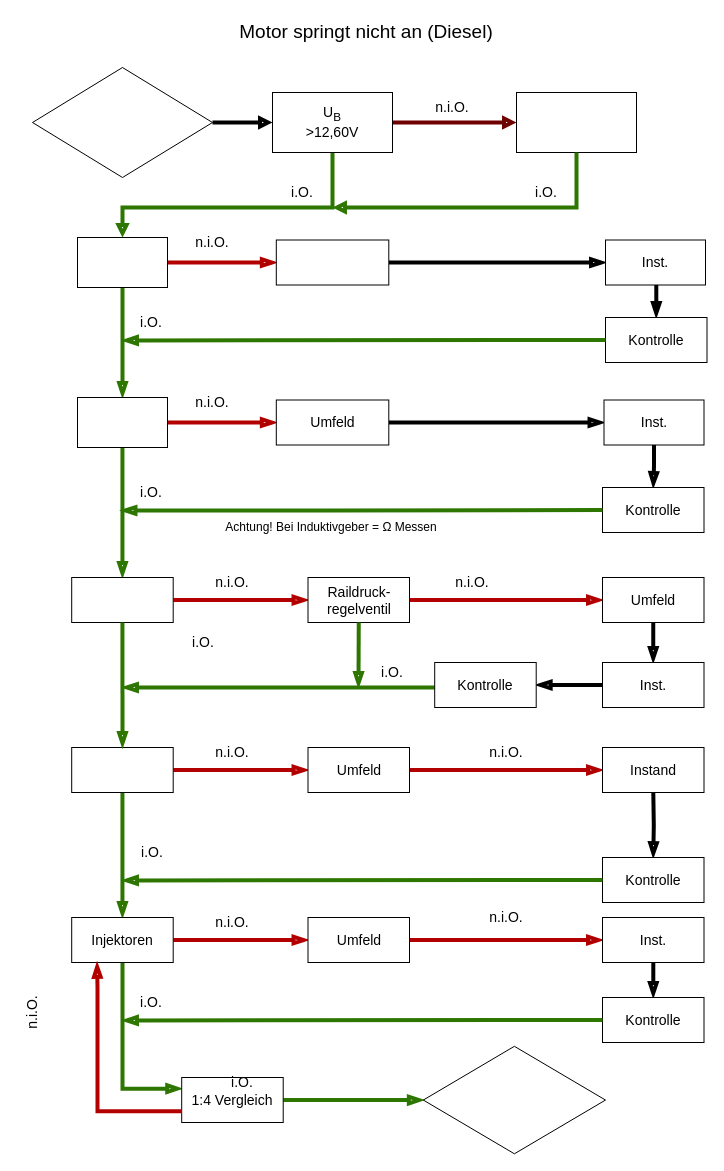
Image size: 724x1171. Some labels were removed from this diagram. Each missing label, with the centre of its shape:
"ESV" goes at point (122, 262).
"Kraftstoff" goes at point (122, 599).
"Motor läuft" goes at point (514, 1099).
"Motor springt nicht an" goes at point (122, 122).
"Raildruckgeber" goes at point (122, 769).
"RPM" goes at point (122, 422).
"U B = U L" goes at point (576, 122).
"Umfeld SP Sicherung" goes at point (332, 262).
